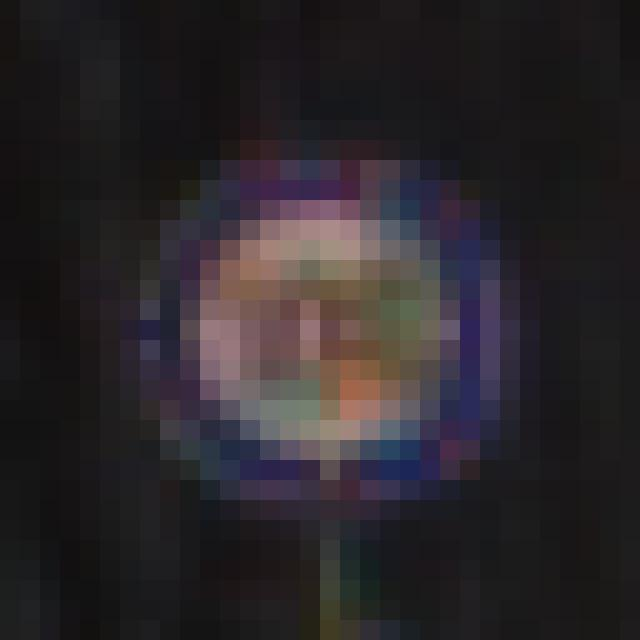SPEED LIMIT 100: (137, 153, 490, 491)
